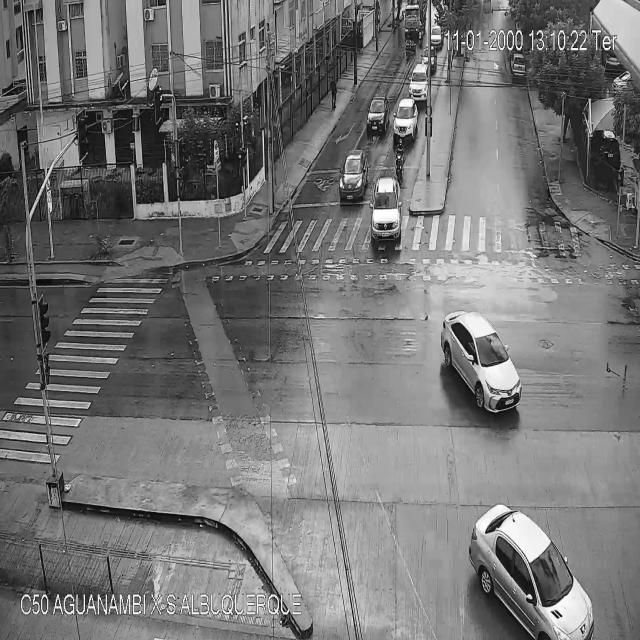Car: (470, 502, 593, 640), (440, 311, 522, 414), (369, 176, 405, 240), (338, 149, 368, 203), (393, 99, 419, 139), (367, 96, 391, 137), (409, 64, 429, 104), (422, 46, 437, 74), (511, 52, 527, 78), (431, 23, 441, 48)
Motorcycle: (399, 32, 417, 62), (395, 137, 405, 182)
Truck: (401, 0, 436, 40)
